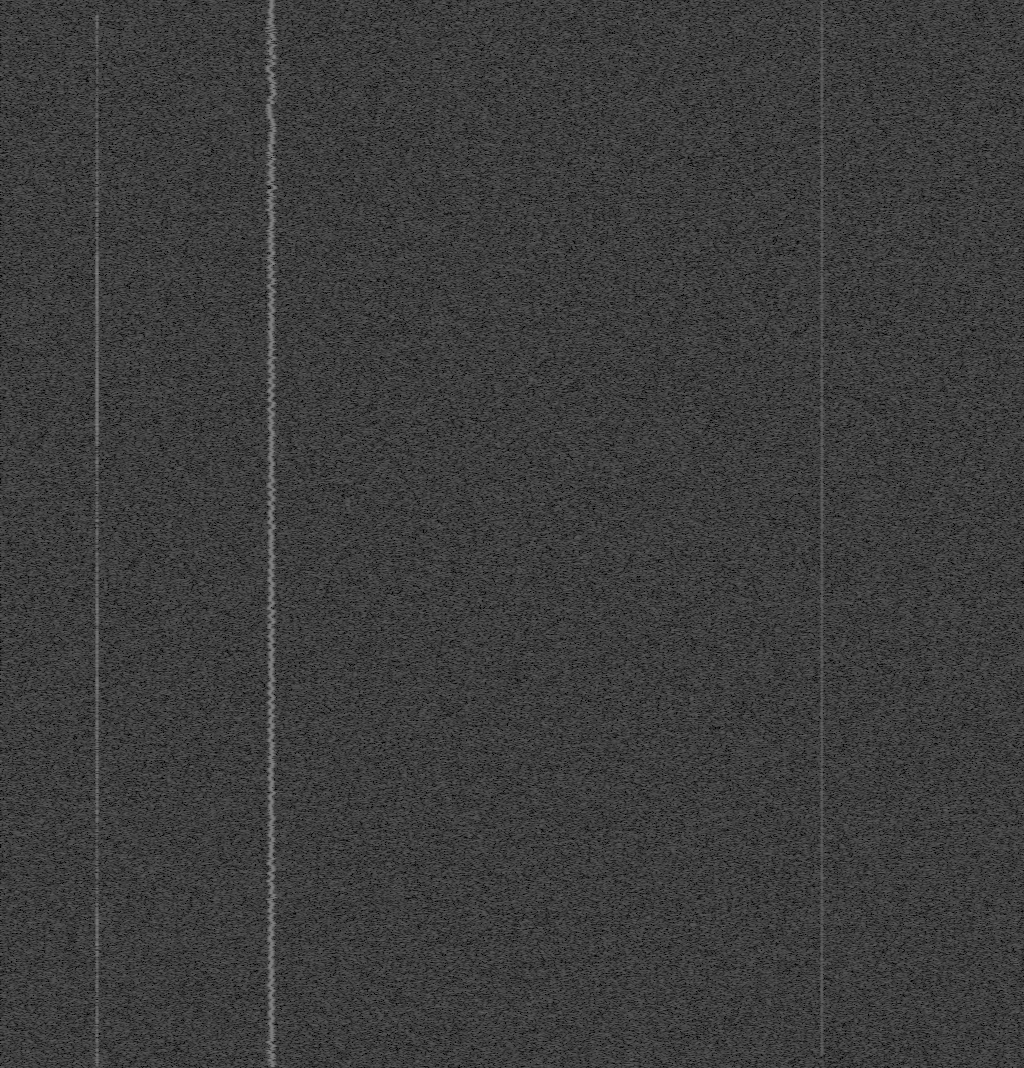wv_cw: (820, 0, 824, 1056)
wv_lsb: (94, 494, 100, 832), (94, 833, 100, 1067), (94, 237, 100, 448), (94, 9, 100, 112), (94, 135, 100, 236), (94, 454, 100, 493), (94, 113, 100, 134), (94, 449, 100, 453)
wv_wbfm: (263, 0, 279, 1067)
